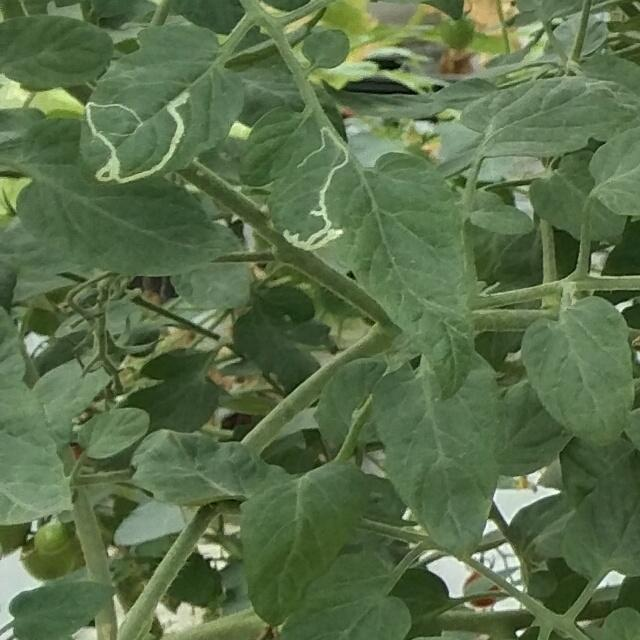Healthy: (17, 114, 244, 277), (351, 150, 477, 401), (371, 352, 503, 559), (242, 458, 368, 626), (520, 296, 634, 446), (459, 76, 640, 156), (131, 428, 291, 507), (0, 15, 116, 92), (9, 580, 118, 640), (74, 406, 151, 460)
Leaf_Miner: (72, 14, 250, 197), (264, 101, 370, 266)
